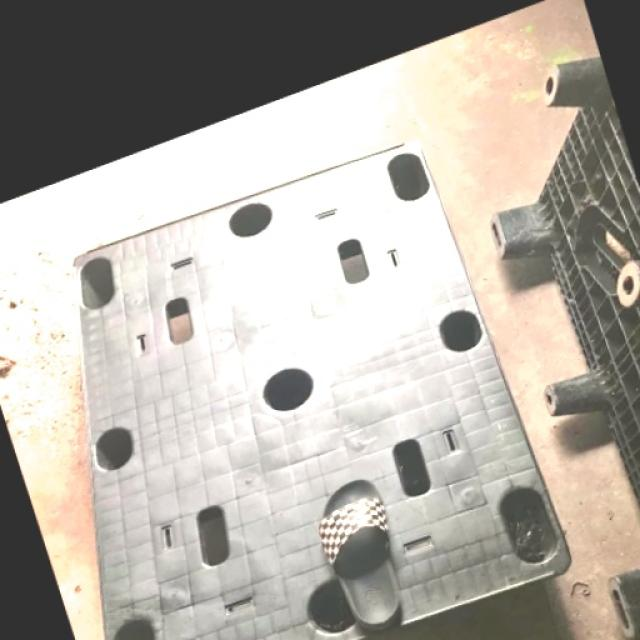non-igps: (62, 129, 578, 640), (484, 47, 640, 640)
